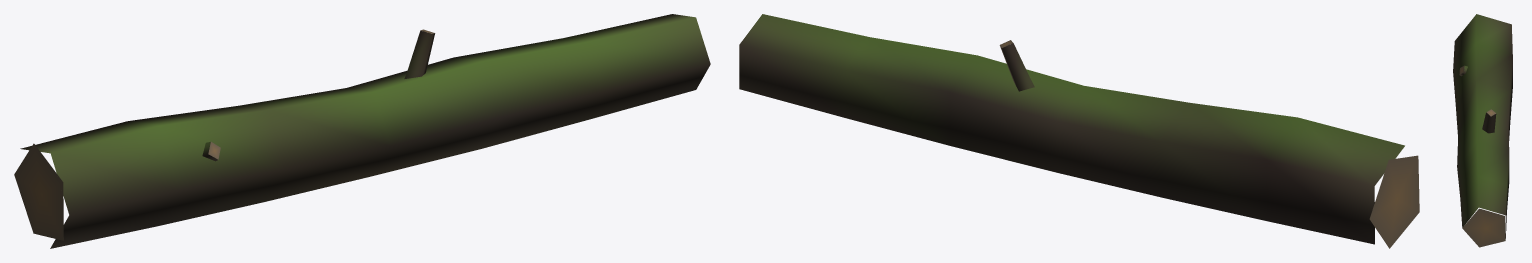
Rendered from log-mossy-a.lod2.glb.
3 renders of one model, left to right at view 1: azimuth 30°, elevation 25°; view 2: azimuth 150°, elevation 25°; view 3: azimuth 270°, elevation 25°, orthographic. The views are drawn at different scales.
Bounding box in the file's own units: 4.03 × 0.7255 × 0.6137.
